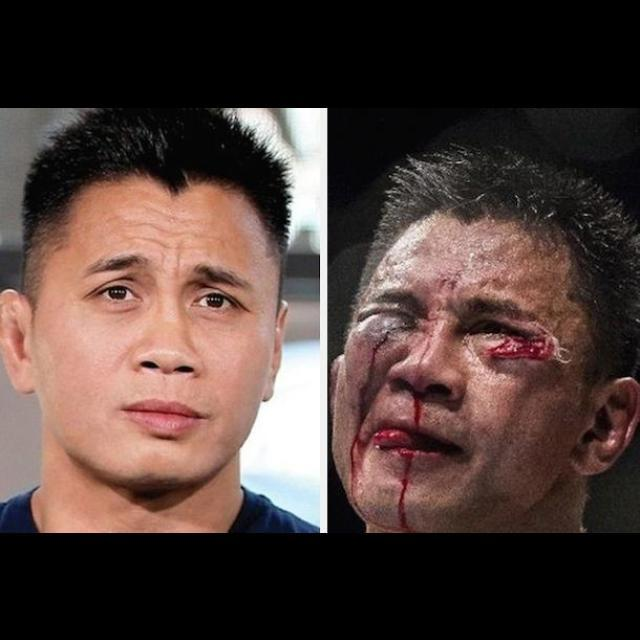blood: (379, 446, 449, 531), (484, 330, 558, 365), (413, 394, 425, 426)
